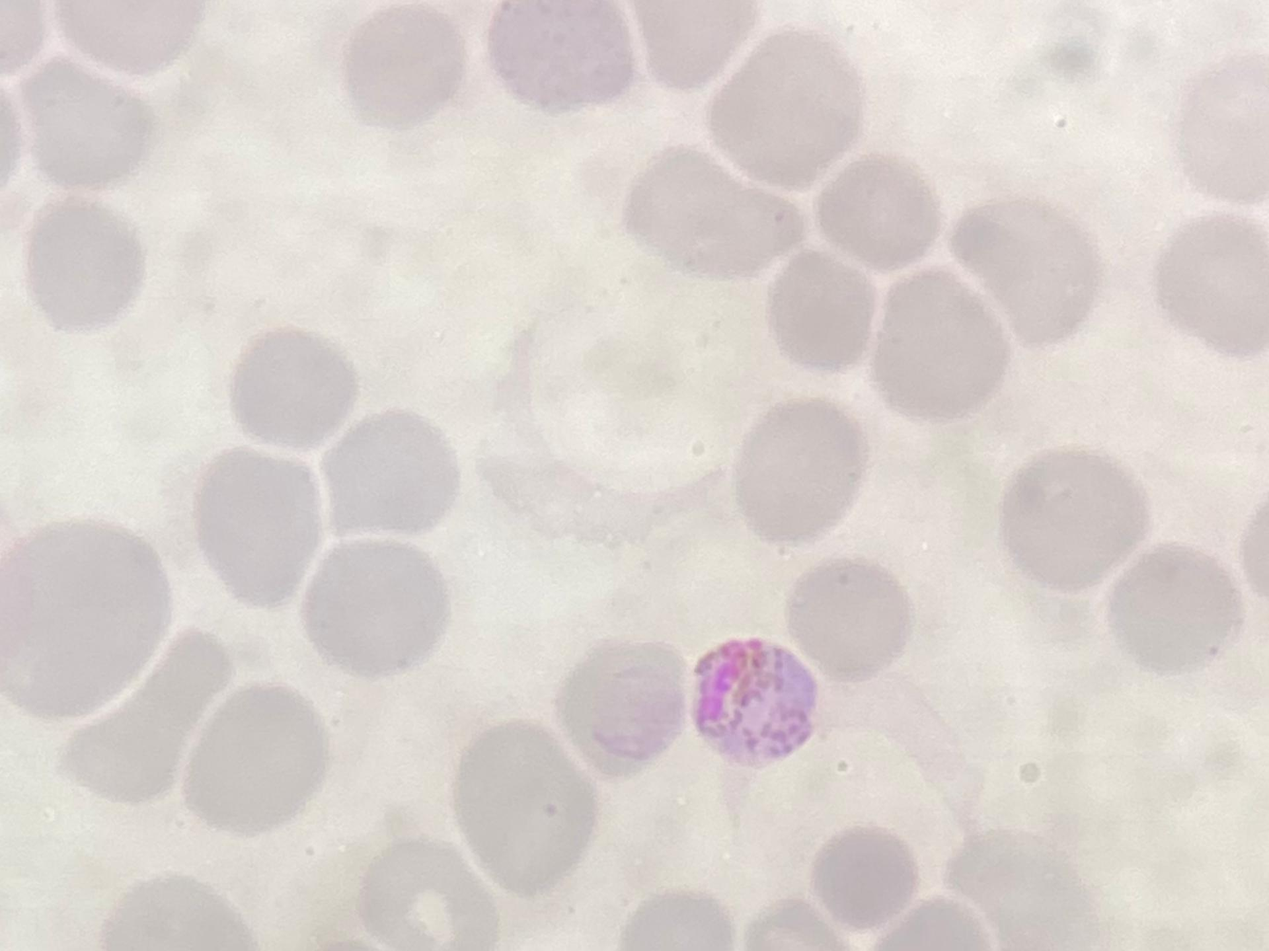Infected: (689, 640, 818, 763)
Uninfected: (1, 519, 173, 718), (56, 628, 233, 808), (449, 720, 601, 897), (706, 33, 865, 191), (621, 146, 805, 282), (178, 678, 331, 838), (954, 194, 1106, 352), (998, 441, 1149, 590), (866, 268, 1011, 423), (300, 536, 455, 678), (192, 445, 324, 608), (734, 394, 866, 542), (17, 56, 155, 192), (321, 408, 463, 537), (946, 827, 1097, 946), (1103, 545, 1241, 675), (557, 638, 687, 775), (1151, 213, 1269, 358), (23, 195, 147, 332), (352, 837, 500, 950), (489, 1, 636, 113), (225, 324, 358, 447), (786, 556, 915, 681), (338, 5, 468, 129), (813, 154, 945, 272), (763, 250, 879, 375), (1171, 57, 1269, 202), (565, 132, 696, 240), (808, 823, 920, 933), (95, 874, 261, 948), (629, 2, 760, 93)
